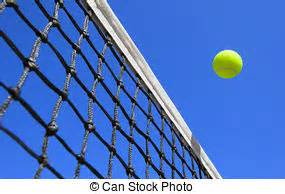tennis_ball: (211, 48, 244, 80)
